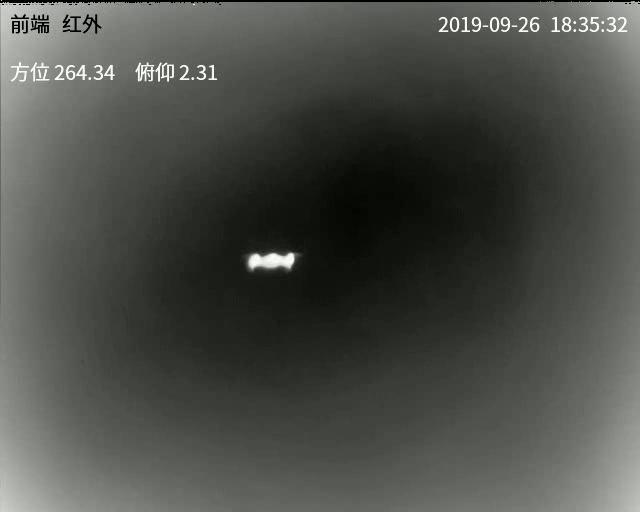DRONE: (247, 250, 297, 273)
